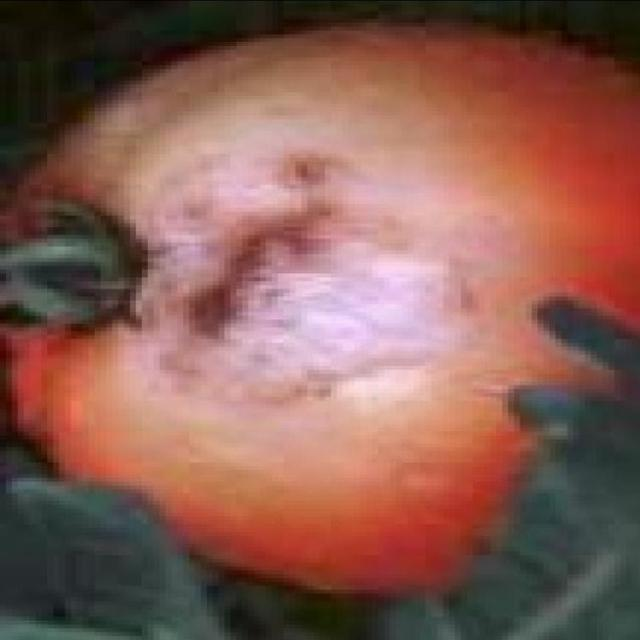Sunscald Fruit: (65, 56, 333, 323)
